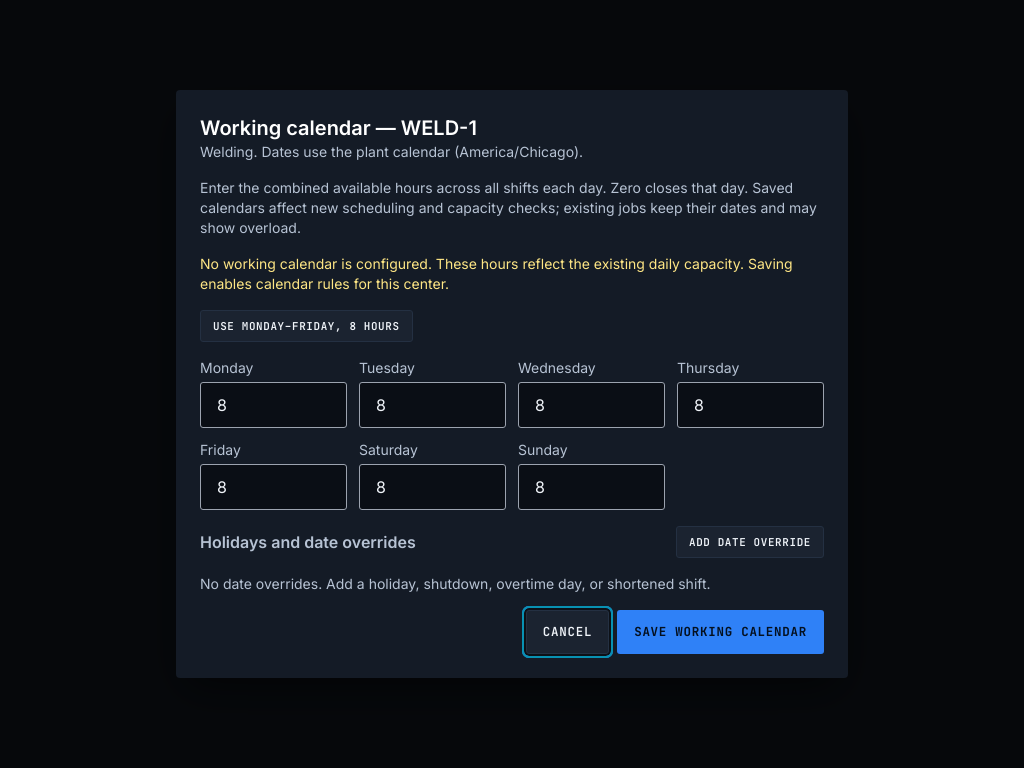
Test: concurrent calendar edits retain input and require an explicit current-version reload
Replace the text in the number field labelled "Monday" with "12" at (274, 405), box [200, 382, 347, 428]
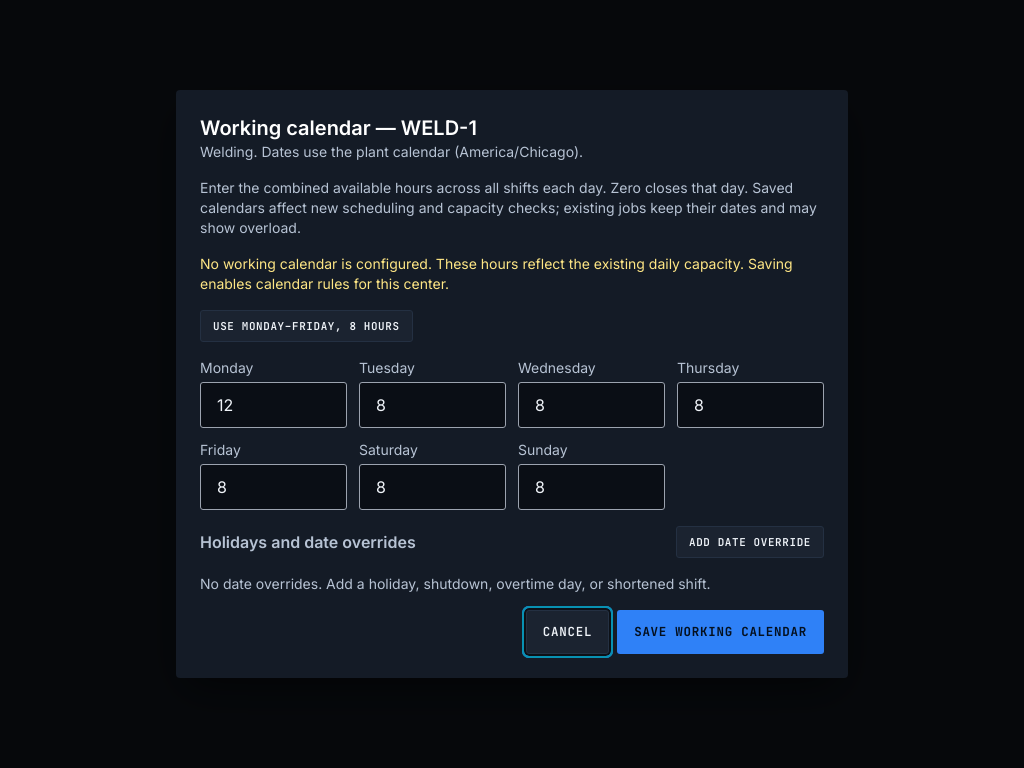
Click the button "Save working calendar" at (721, 632), box [617, 610, 824, 654]
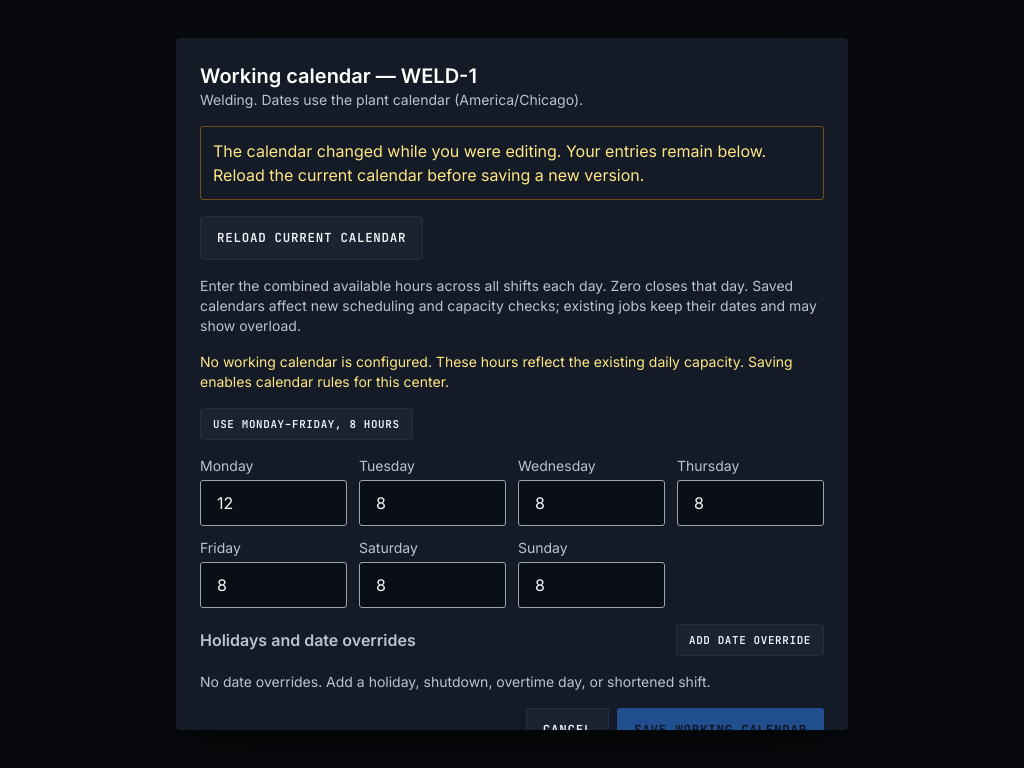
Expected: the message shows "changed while you were editing", [213, 141, 766, 185]
Expected: the button "Reload current calendar" is enabled, [200, 216, 423, 260]
